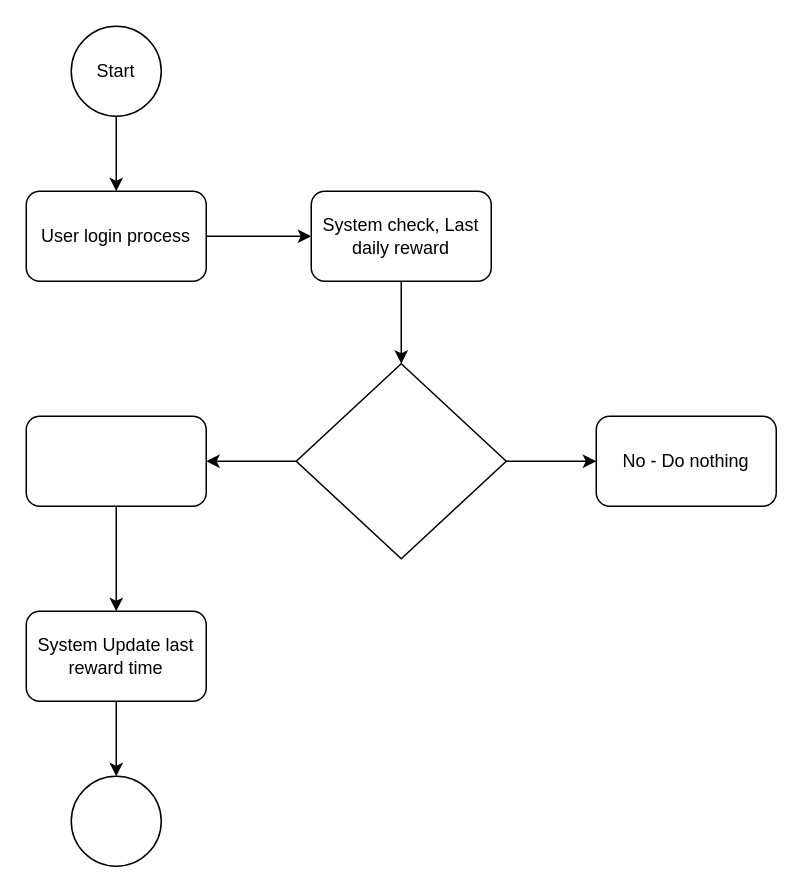
Image size: 803x893. Some labels were removed from this diagram. The shapes that lost their labels are listed below. From the top down, each one's centre as x and y in pixels, then its label:
At pixel 115 460: "Yes, Give user Daily reward of tokens and xp".
At pixel 400 460: "Has 24 hours passed".
At pixel 115 820: "End".
